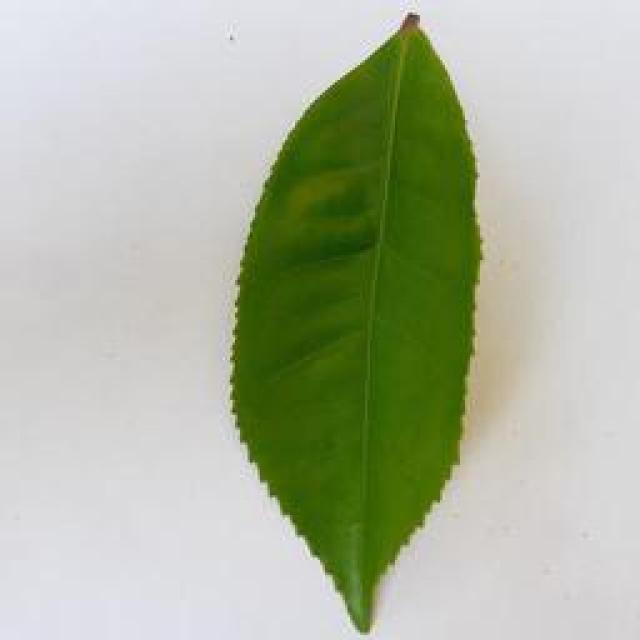Healthy: (210, 12, 488, 631)
